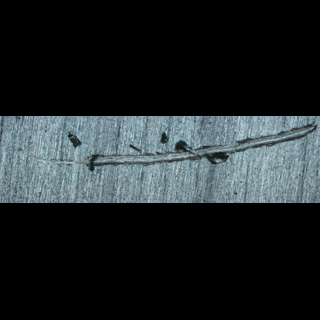d: (8, 121, 318, 173)
